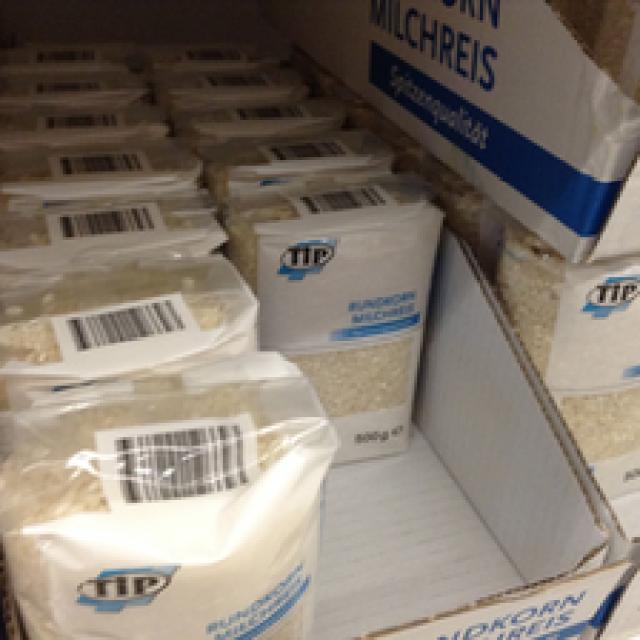groceries: (0, 354, 331, 637), (228, 174, 443, 466), (492, 220, 637, 491)
